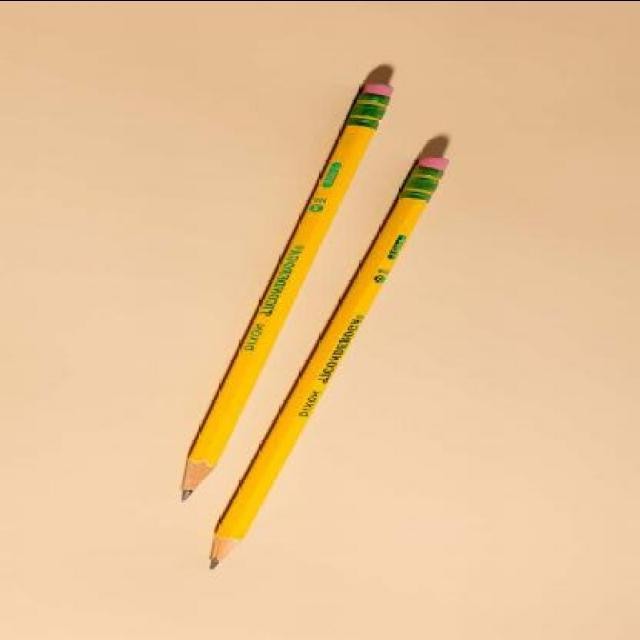pencil: (156, 452, 228, 506), (194, 520, 257, 580)
